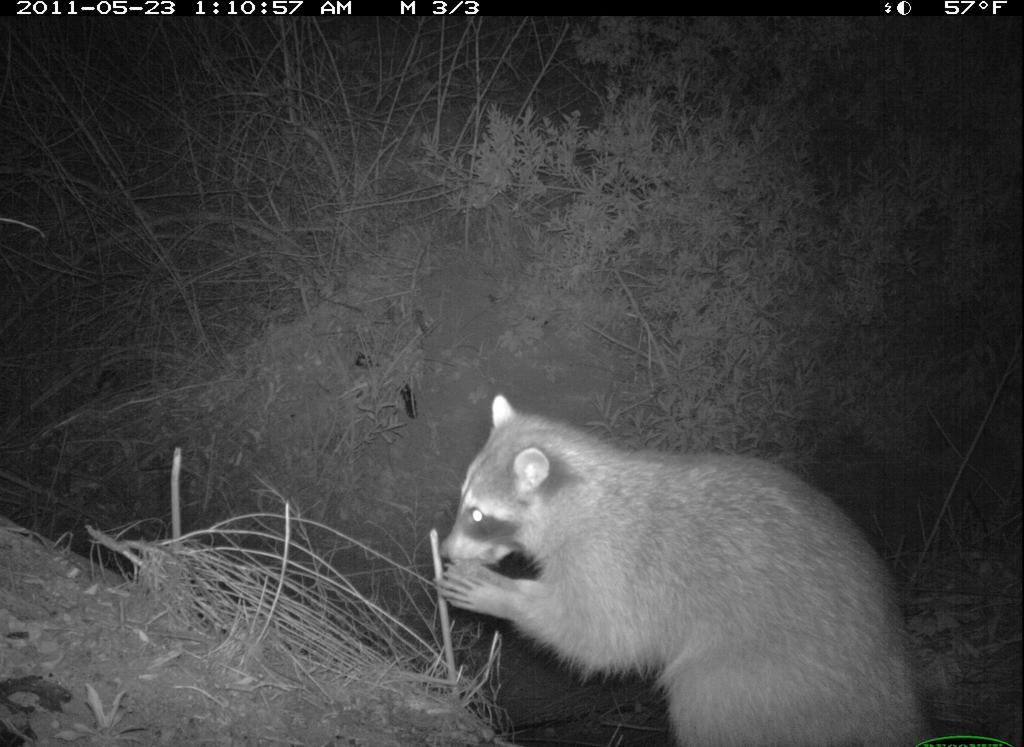raccoon: (422, 379, 940, 737)
